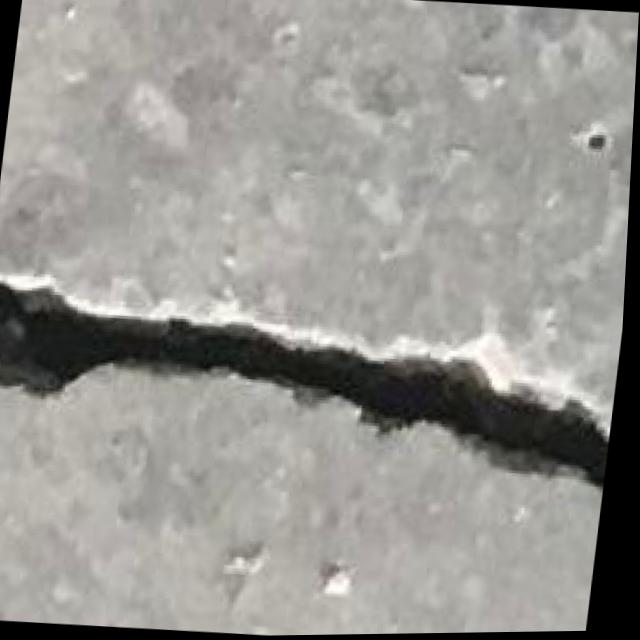Crack: (0, 264, 629, 501)
